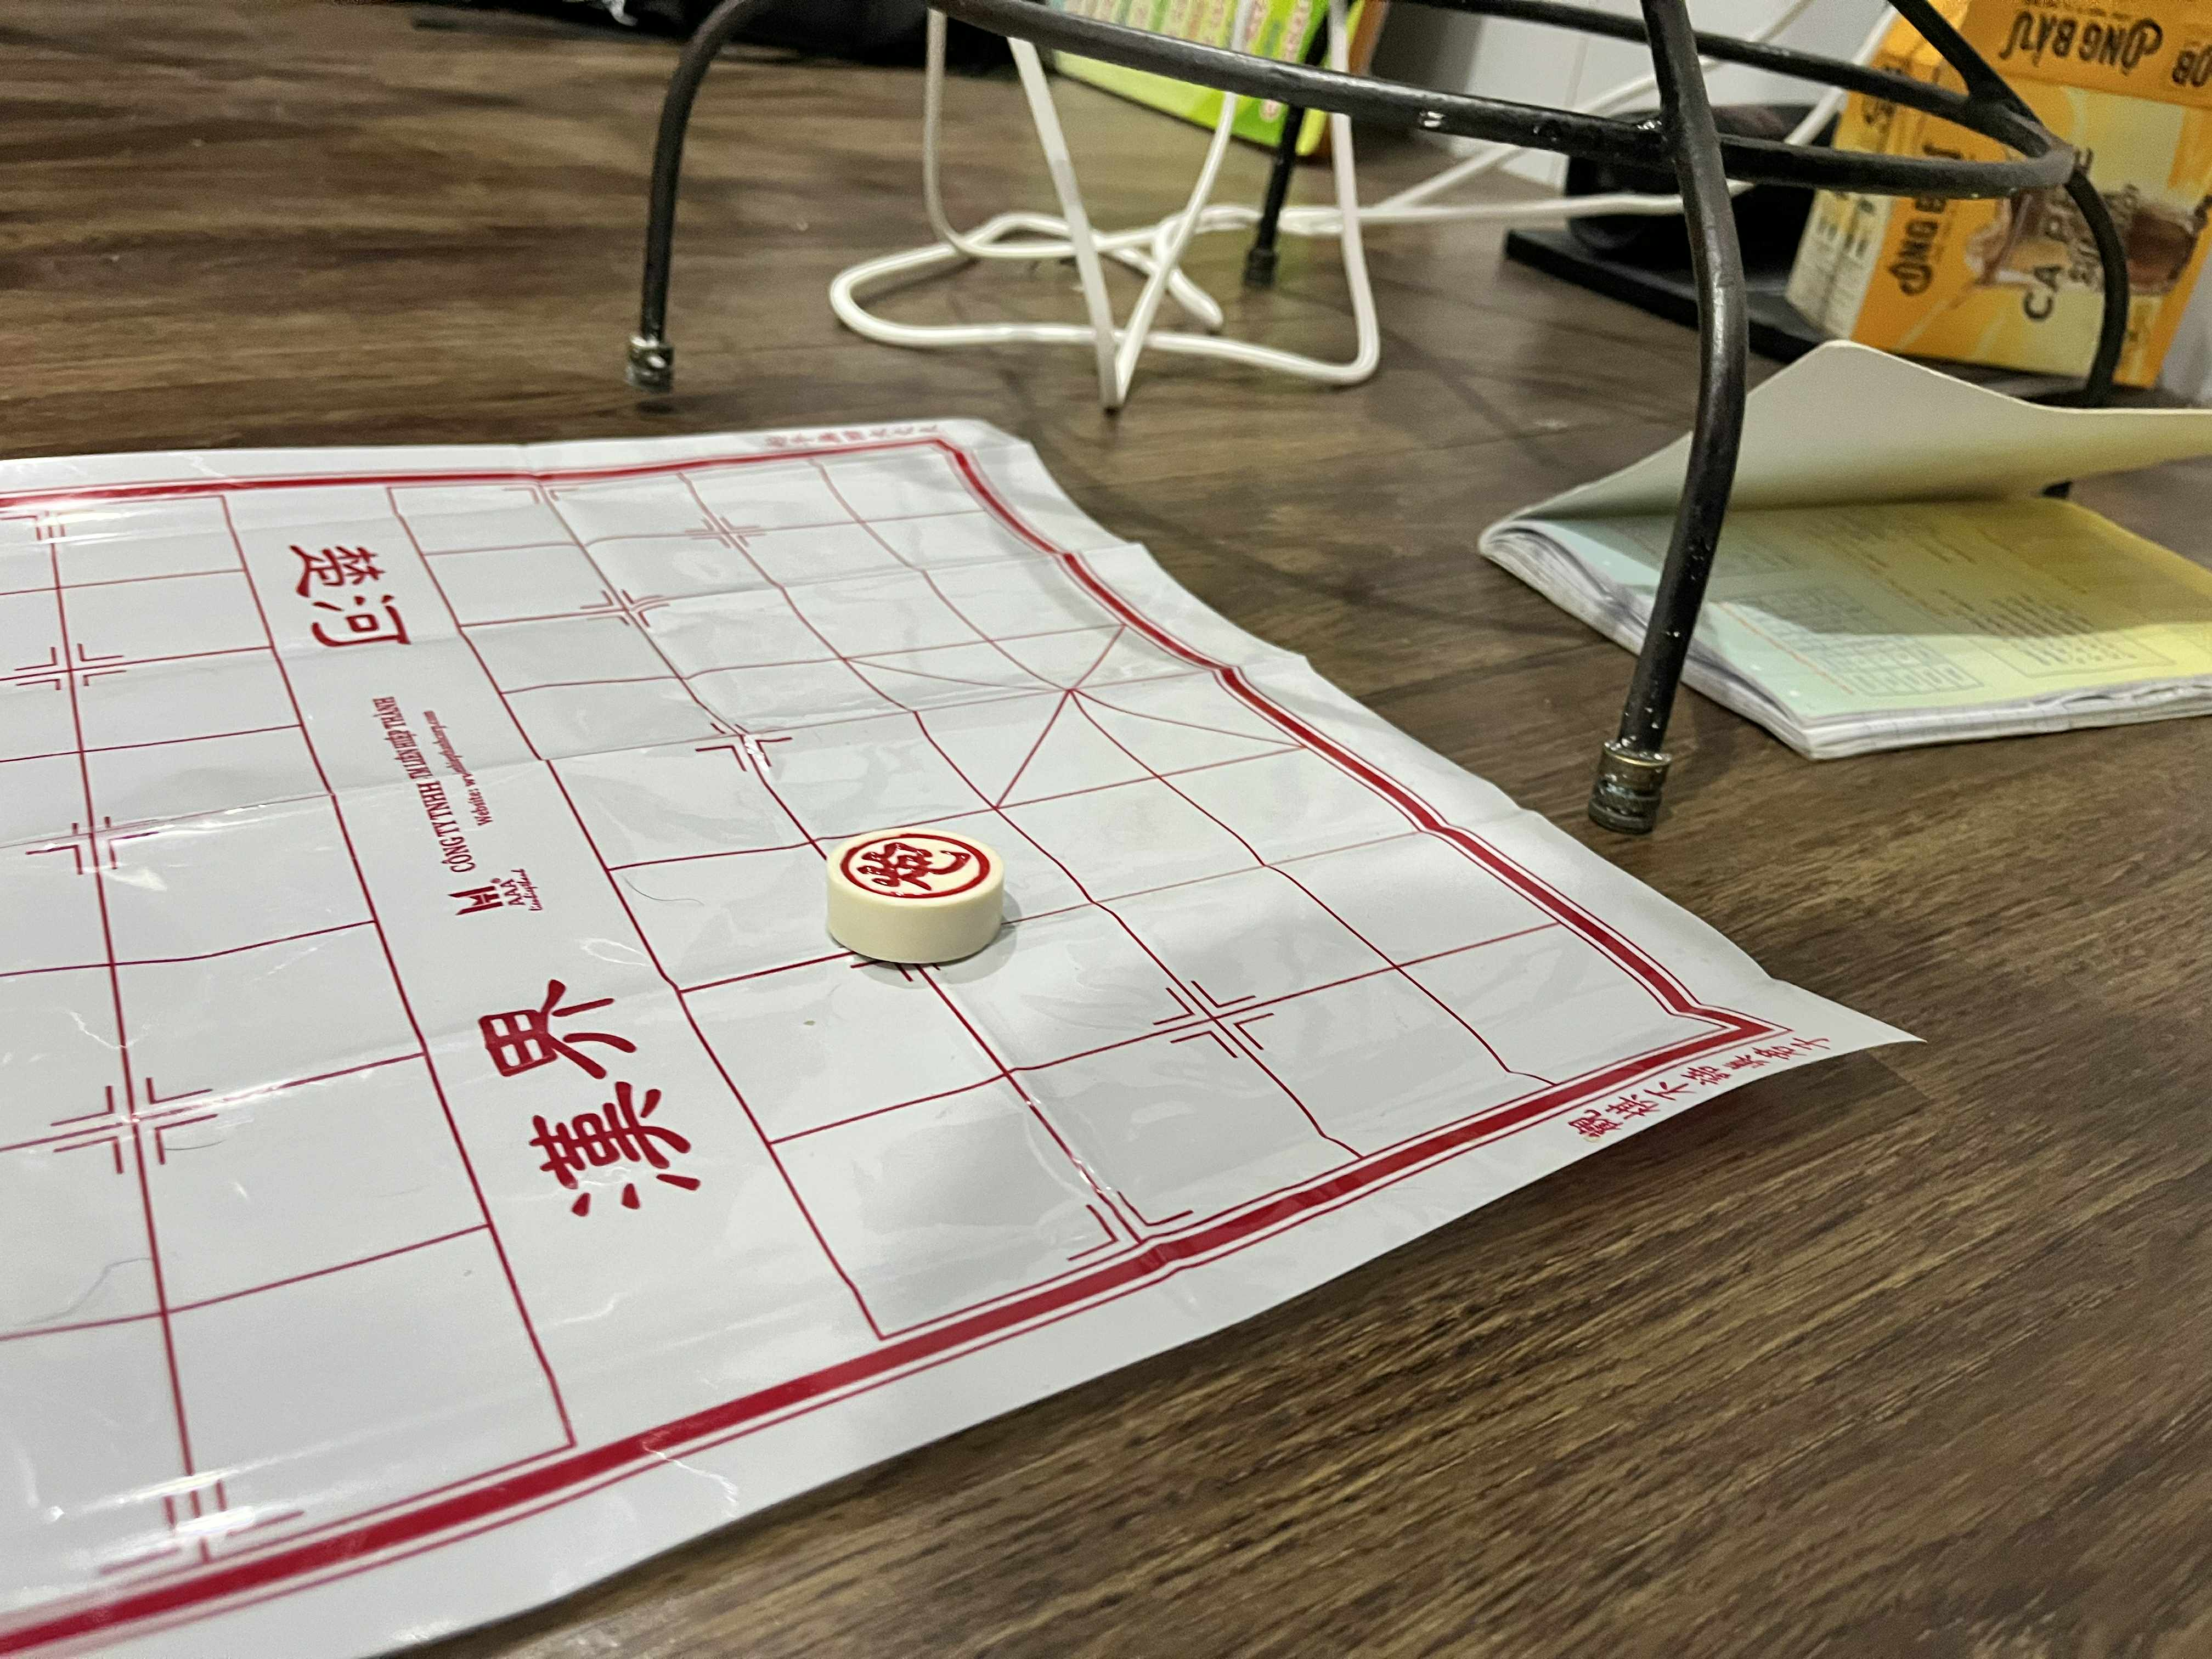red-cannon: (826, 826, 1007, 915)
